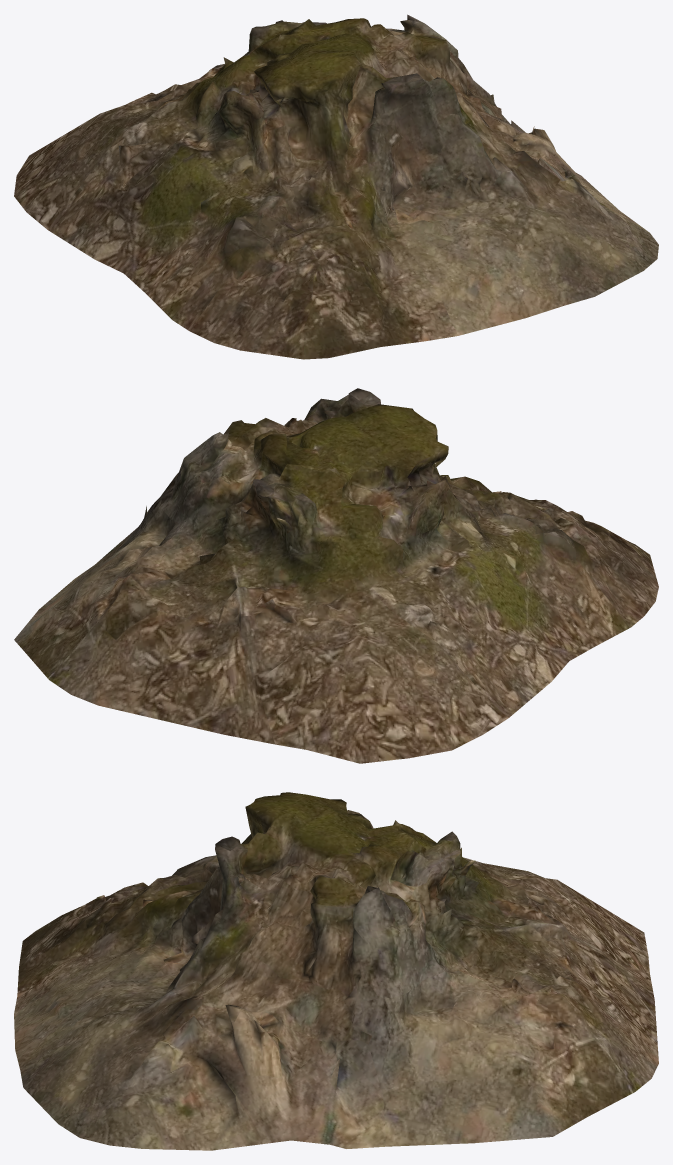
Rendered from tree_stump_01.glb.
The picture shows the model from 3 angles, top to bottom: view 1: azimuth 30°, elevation 25°; view 2: azimuth 150°, elevation 25°; view 3: azimuth 270°, elevation 25°; orthographic projection. The views are drawn at different scales.
Parts seen in each view (by area): view 1: tree_stump_01; view 2: tree_stump_01; view 3: tree_stump_01.
Boxes of the visible parts, left/top/right/bottom form: tree_stump_01: left=14, top=14, right=658, bottom=359; tree_stump_01: left=14, top=388, right=658, bottom=763; tree_stump_01: left=14, top=792, right=658, bottom=1150.
Size of the model in its own units: 1.43 by 0.571 by 1.59.
1 material, 1 textured.
